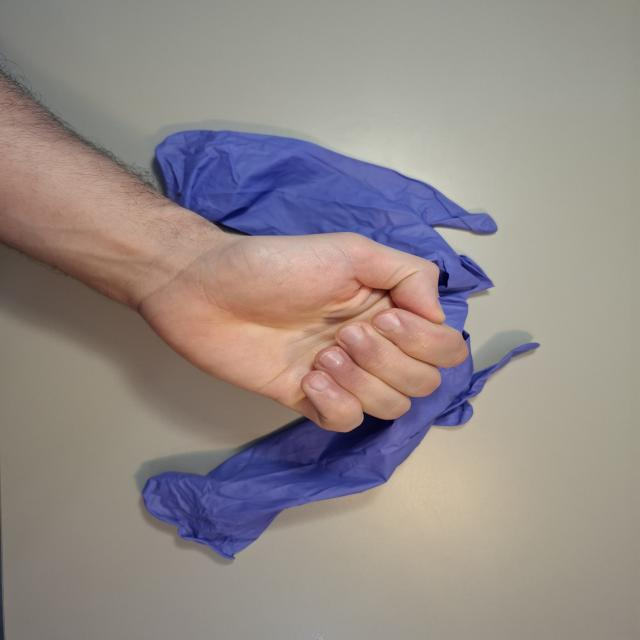glove_off: (119, 228, 473, 436)
